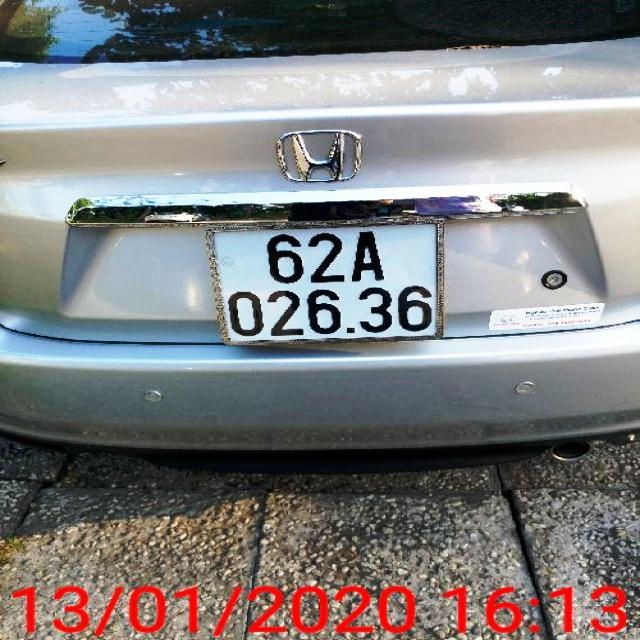license_plate: (208, 216, 448, 349)
